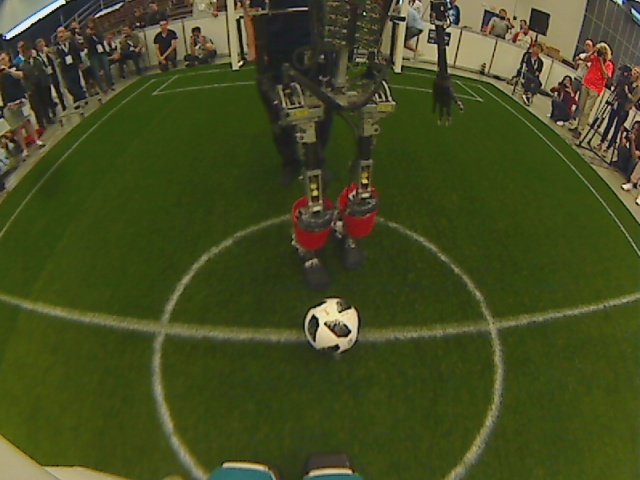ball: (300, 296, 360, 356)
